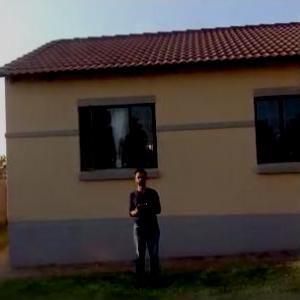follow: (127, 164, 169, 295)
